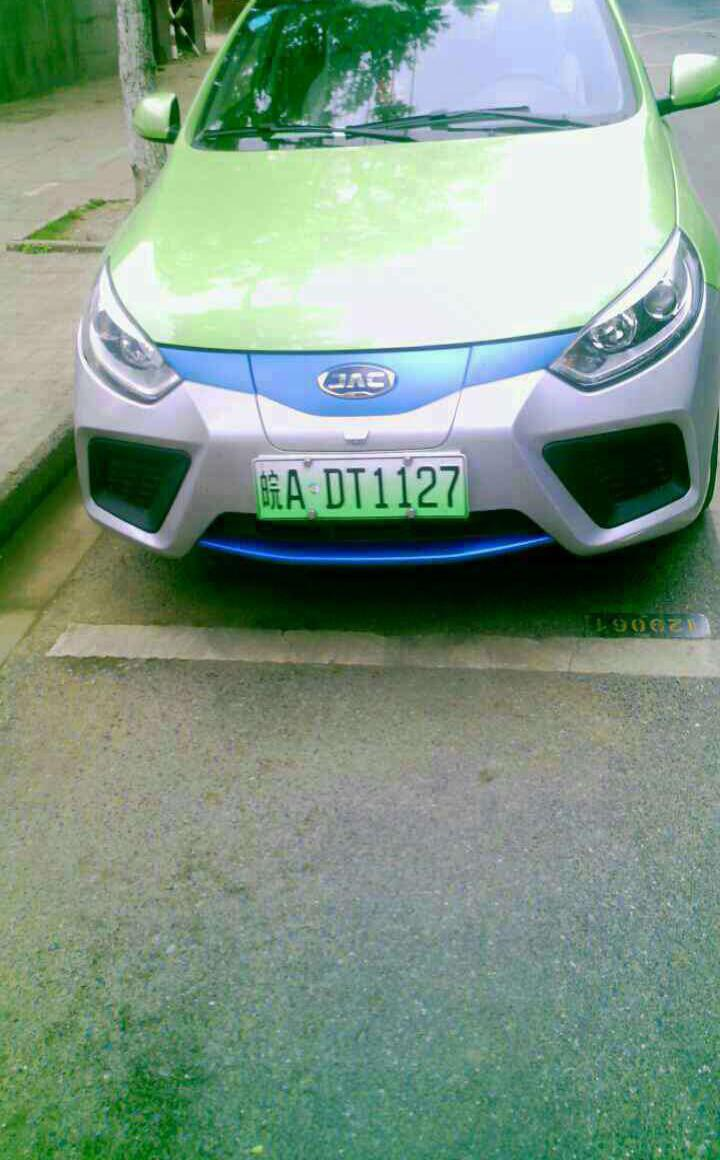car: (248, 452, 479, 527)
